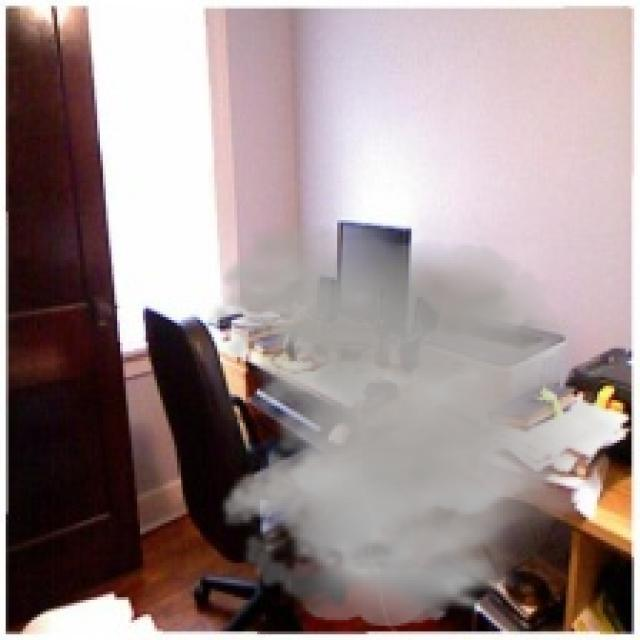Smoke: (208, 223, 634, 626)
